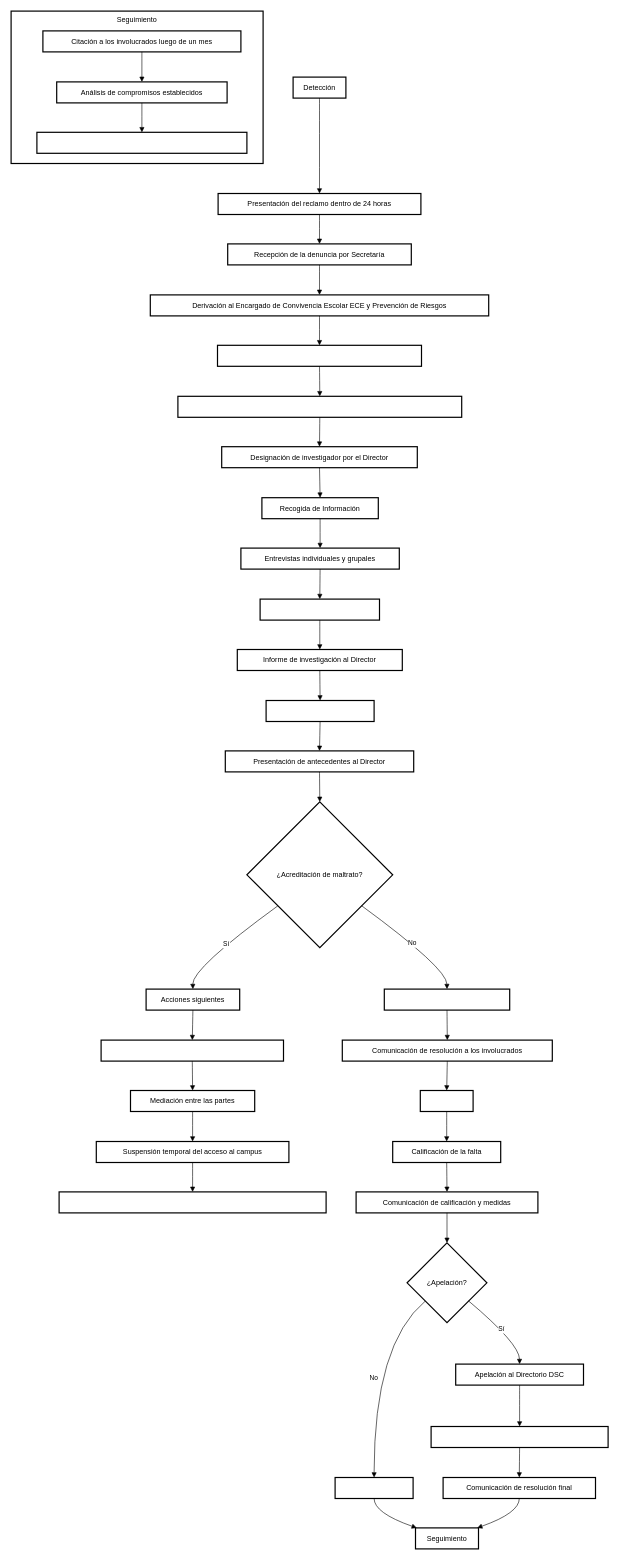
This 619x1559 diagram has some shape labels left out. Each missing label, with the centre of its shape:
"Denuncia a Tribunales por delito de agresión si corresponde" belongs at (192,1202).
"Descargos" belongs at (446,1101).
"Desestimación de maltrato" belongs at (446,999).
"Entrevista personal con los involucrados" belongs at (192,1050).
"Formulación de Cargos" belongs at (319,711).
"Primera averiguación e informe al Director y Recursos Humanos" belongs at (319,406).
"Resolución final" belongs at (373,1488).
"Responsable del seguimiento: ECE o designado" belongs at (141,142).
"Reunión inicial para análisis de antecedentes" belongs at (319,355).
"Revisión de antecedentes" belongs at (319,609).
"Revisión de apelación por el Directorio" belongs at (519,1437).
